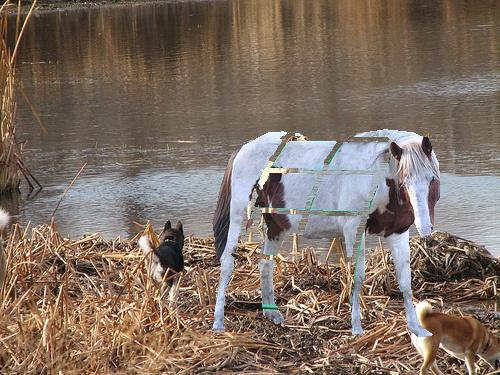tampered: (213, 130, 440, 337)
